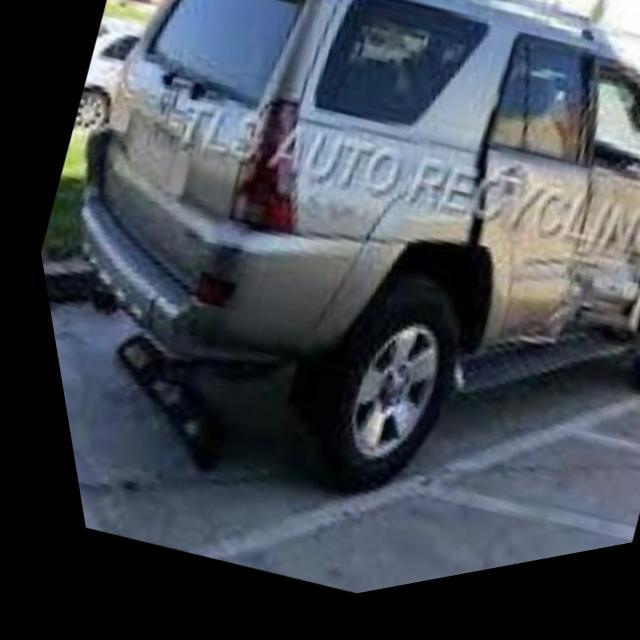glass shatter: (487, 67, 640, 376)
